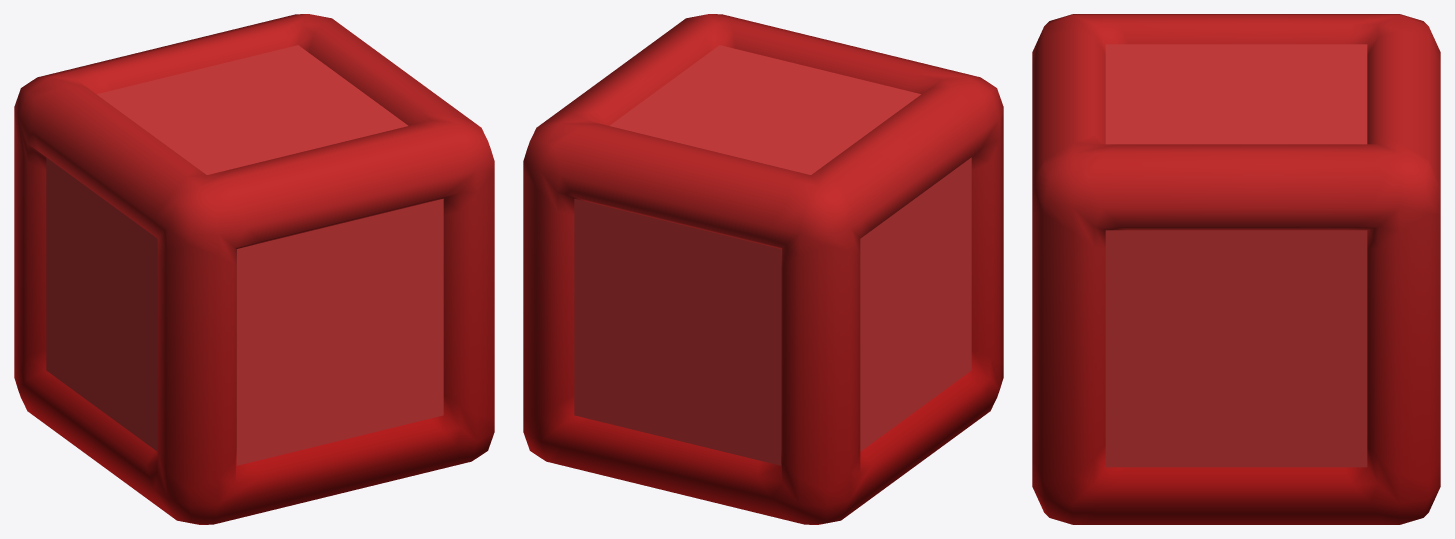
File: Block_Red.fbx
The picture shows the model from 3 angles, left to right: view 1: azimuth 30°, elevation 25°; view 2: azimuth 150°, elevation 25°; view 3: azimuth 270°, elevation 25°; orthographic projection. The views are drawn at different scales.
Visible parts, largest first — view 1: Block_Red; view 2: Block_Red; view 3: Block_Red.
Part boxes in pixels (<box>): Block_Red: <box>14,14,494,524</box>; Block_Red: <box>523,14,1003,524</box>; Block_Red: <box>1032,14,1440,524</box>.
Size of the model in its own units: 100 by 100 by 100.
